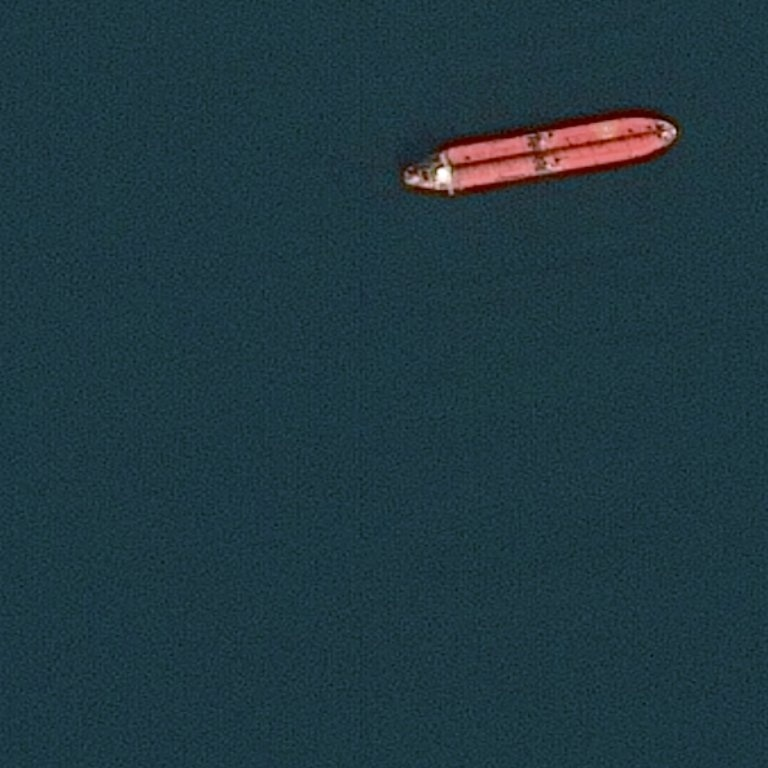ship: (401, 116, 675, 192)
